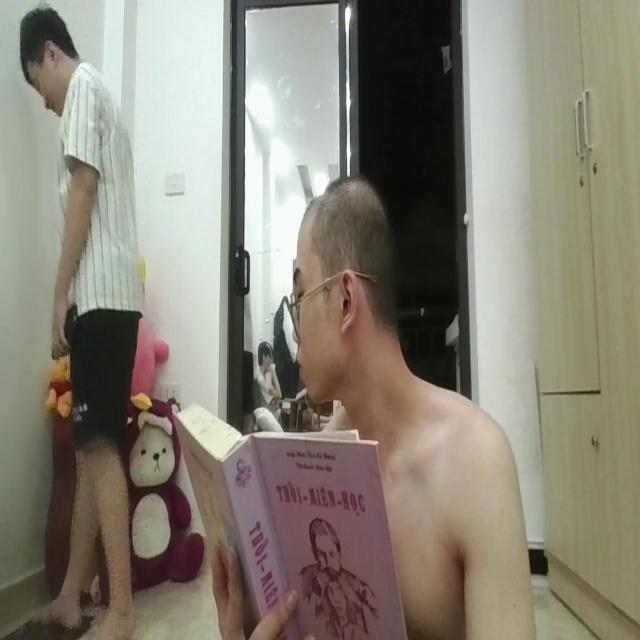book: (170, 395, 409, 640)
extra_person: (13, 8, 162, 640), (246, 318, 282, 420)
student: (293, 166, 536, 640)
